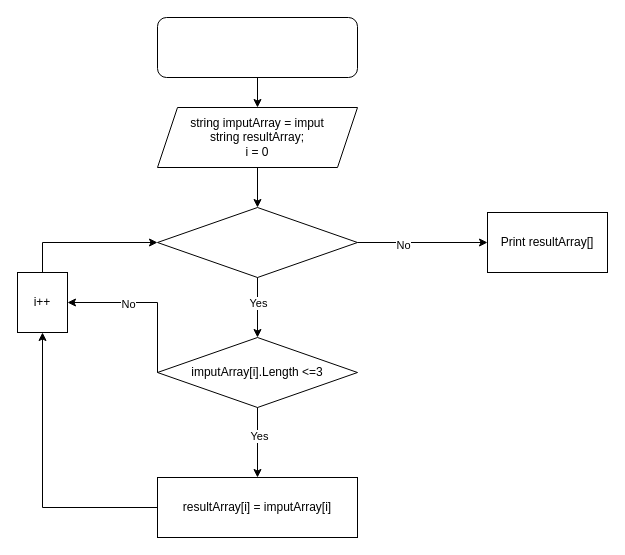
The diagram is 625 pixels wide and 555 high, and some of its shapes have lost their labels. Here are the shapes that lost their labels. From the top down, the centre of each, then its label:
pixel 257 47: Finding elements with 3 and less symbols in string array
pixel 257 242: i < imputArray.Length
